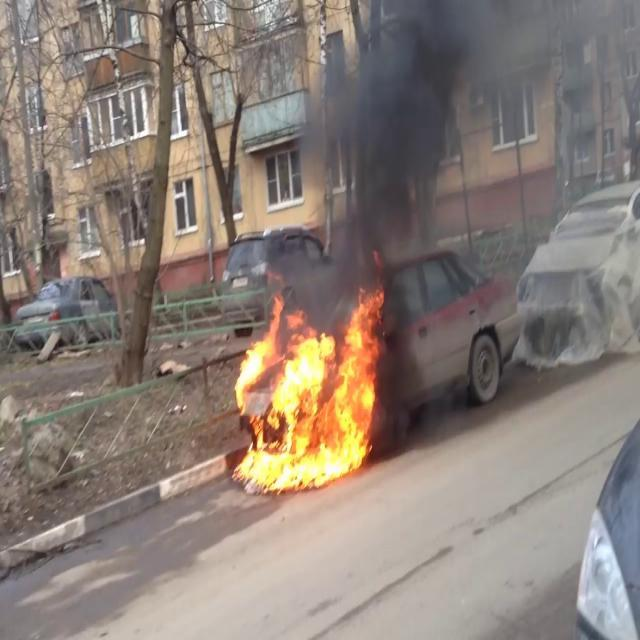Fire: (228, 286, 390, 494)
Smoke: (300, 1, 486, 286)
